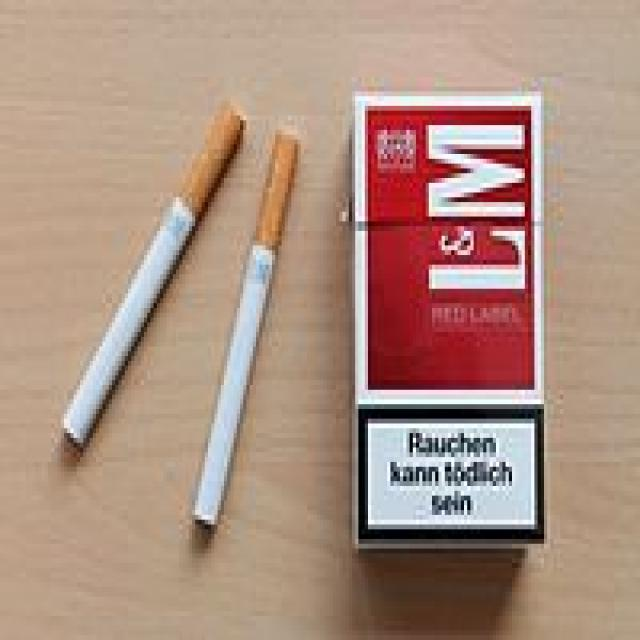lm: (345, 96, 553, 570)
